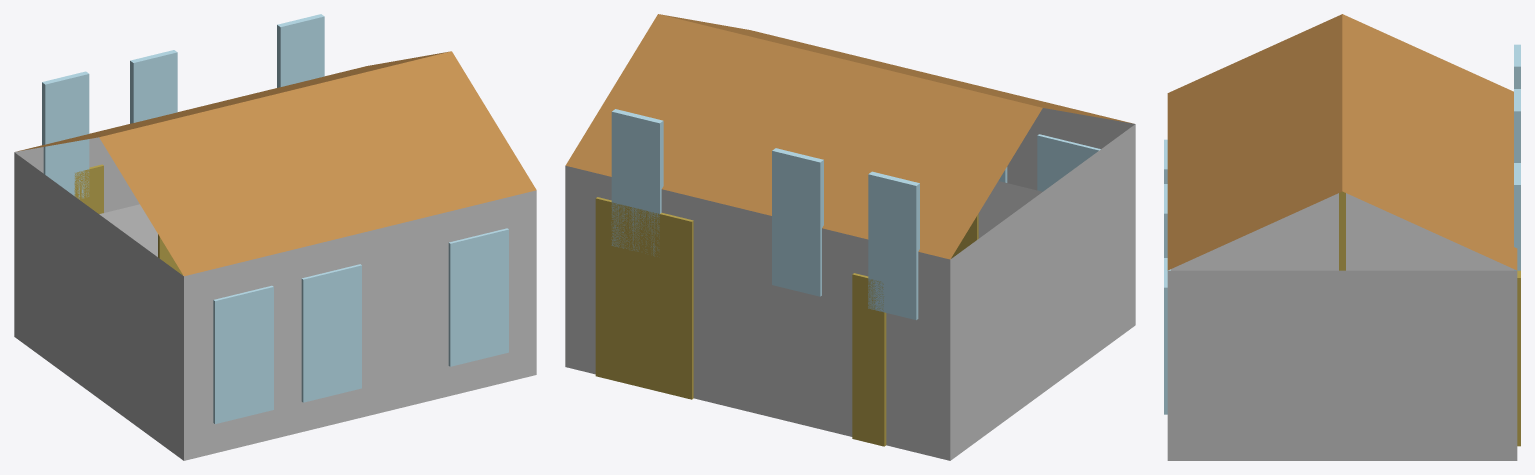
The picture shows the model from 3 angles, left to right: view 1: azimuth 30°, elevation 25°; view 2: azimuth 150°, elevation 25°; view 3: azimuth 270°, elevation 25°; orthographic projection. The views are drawn at different scales.
Parts seen in each view (by area): view 1: 630770ad2047, b261f5b0ec53, 66bf92c169d5, d1578e88bb89, c0625b502dc3, 335478909af6, aaccec02d5f3, 462f7e5d01b6, 5cf6bf630aae, 6a14405dd61b, 2f7d22404ab3, 21e1e9c11553 (+4 smaller); view 2: 630770ad2047, b261f5b0ec53, 418d6fd49031, 12f98d079f11, fdd36bd71ad1, 5cf6bf630aae, 53364e150813, 6a14405dd61b, f4534a7a0518, 2f7d22404ab3, 21e1e9c11553, 5d73bfd945f7 (+2 smaller); view 3: 630770ad2047, b261f5b0ec53, eb6477a2417a, 2f7d22404ab3, 21e1e9c11553, 81a8d501e9ee.
Part boxes in pixels (<box>): 630770ad2047: <box>14,137,536,460</box>; b261f5b0ec53: <box>17,51,536,276</box>; 66bf92c169d5: <box>213,324,273,424</box>; d1578e88bb89: <box>301,302,361,402</box>; c0625b502dc3: <box>448,266,508,366</box>; 335478909af6: <box>301,264,361,365</box>; aaccec02d5f3: <box>213,285,273,386</box>; 462f7e5d01b6: <box>448,228,508,326</box>; 5cf6bf630aae: <box>42,111,89,199</box>; 6a14405dd61b: <box>42,71,89,170</box>; 2f7d22404ab3: <box>277,14,324,87</box>; 21e1e9c11553: <box>130,50,177,123</box>; 630770ad2047: <box>565,108,1135,460</box>; b261f5b0ec53: <box>565,14,1132,259</box>; 418d6fd49031: <box>595,197,693,315</box>; 12f98d079f11: <box>595,282,693,399</box>; fdd36bd71ad1: <box>772,191,823,296</box>; 5cf6bf630aae: <box>868,215,919,320</box>; 53364e150813: <box>611,152,663,256</box>; 6a14405dd61b: <box>868,171,919,278</box>; f4534a7a0518: <box>852,345,886,446</box>; 2f7d22404ab3: <box>611,109,663,216</box>; 21e1e9c11553: <box>772,148,823,255</box>; 5d73bfd945f7: <box>852,273,886,375</box>; 630770ad2047: <box>1167,270,1517,460</box>; b261f5b0ec53: <box>1167,14,1517,270</box>; eb6477a2417a: <box>1171,193,1513,270</box>; 2f7d22404ab3: <box>1514,163,1520,270</box>; 21e1e9c11553: <box>1514,89,1520,149</box>; 81a8d501e9ee: <box>1339,191,1345,251</box>.
Size of the model in its own units: 12 by 8.5 by 10.2.
